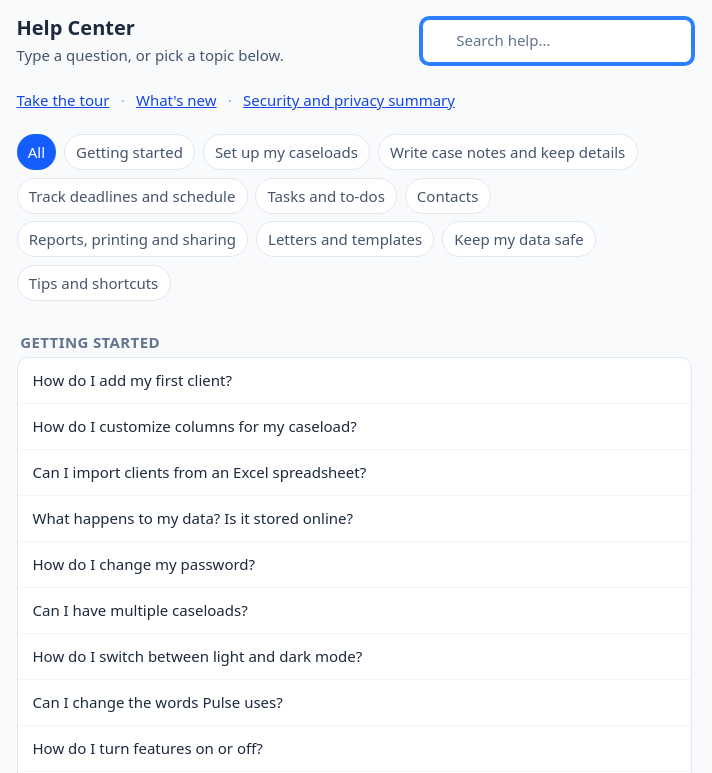
Test case: Help search › with the feature on, the same search makes no offer
Type "mileage" into the search field with placeholder "Search help…".
click(556, 41); type("mileage")  # box [422,19,692,63]
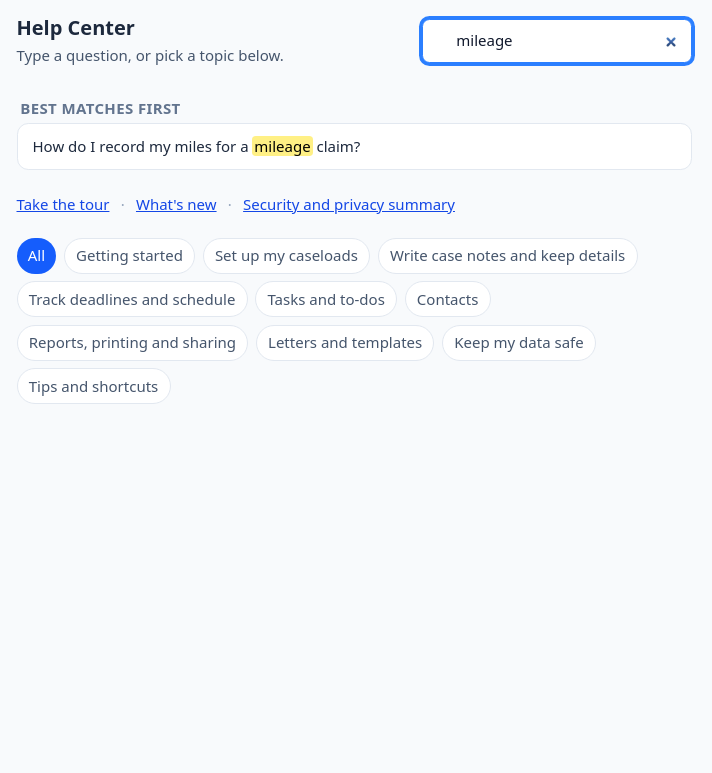
Now the heading "Best matches first" is shown, box [20,98,181,118]
